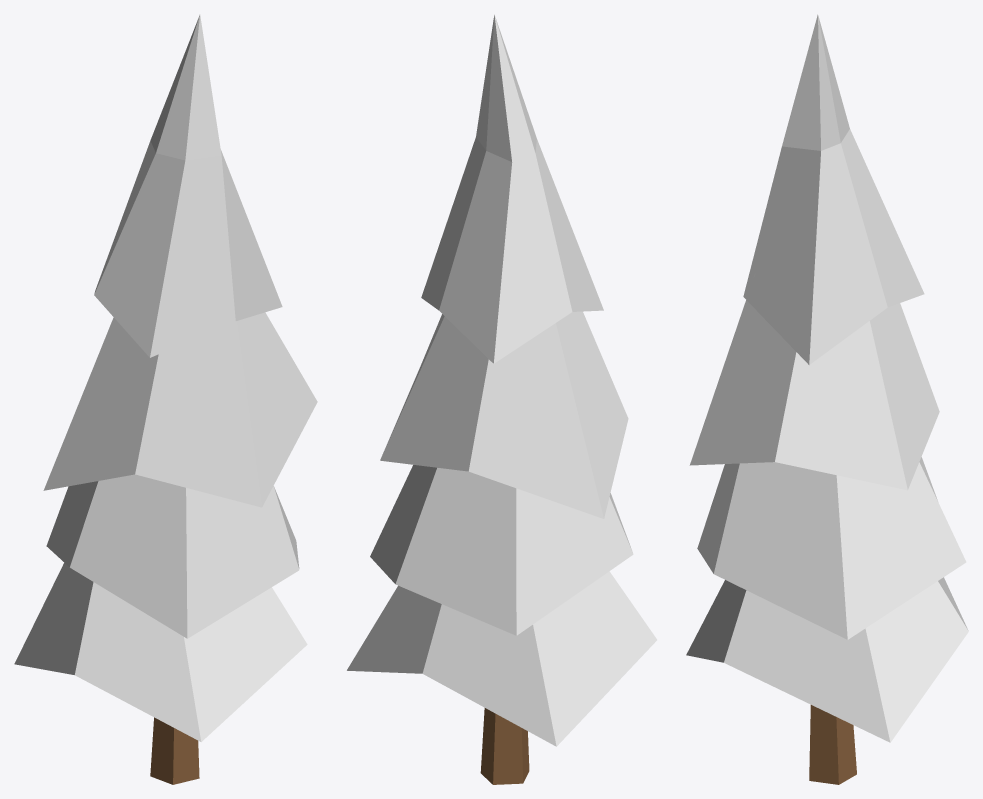
The model's file is Pine_Tree_OneSided_m_Snow_09_LOD.fbx.
3 renders of one model, left to right at view 1: azimuth 30°, elevation 25°; view 2: azimuth 150°, elevation 25°; view 3: azimuth 270°, elevation 25°, orthographic. The views are drawn at different scales.
Visible parts, largest first — view 1: Pine_Tree_OneSided_m_Snow_09_LOD0; view 2: Pine_Tree_OneSided_m_Snow_09_LOD0; view 3: Pine_Tree_OneSided_m_Snow_09_LOD0.
Part boxes in pixels (x1,y1,x2,y2): Pine_Tree_OneSided_m_Snow_09_LOD0: (14,14,317,784); Pine_Tree_OneSided_m_Snow_09_LOD0: (347,14,656,784); Pine_Tree_OneSided_m_Snow_09_LOD0: (686,14,968,784).
Size of what is drawn, in the model's own units: 212 by 594 by 198.
